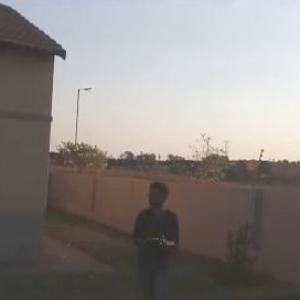follow: (125, 175, 181, 299)
